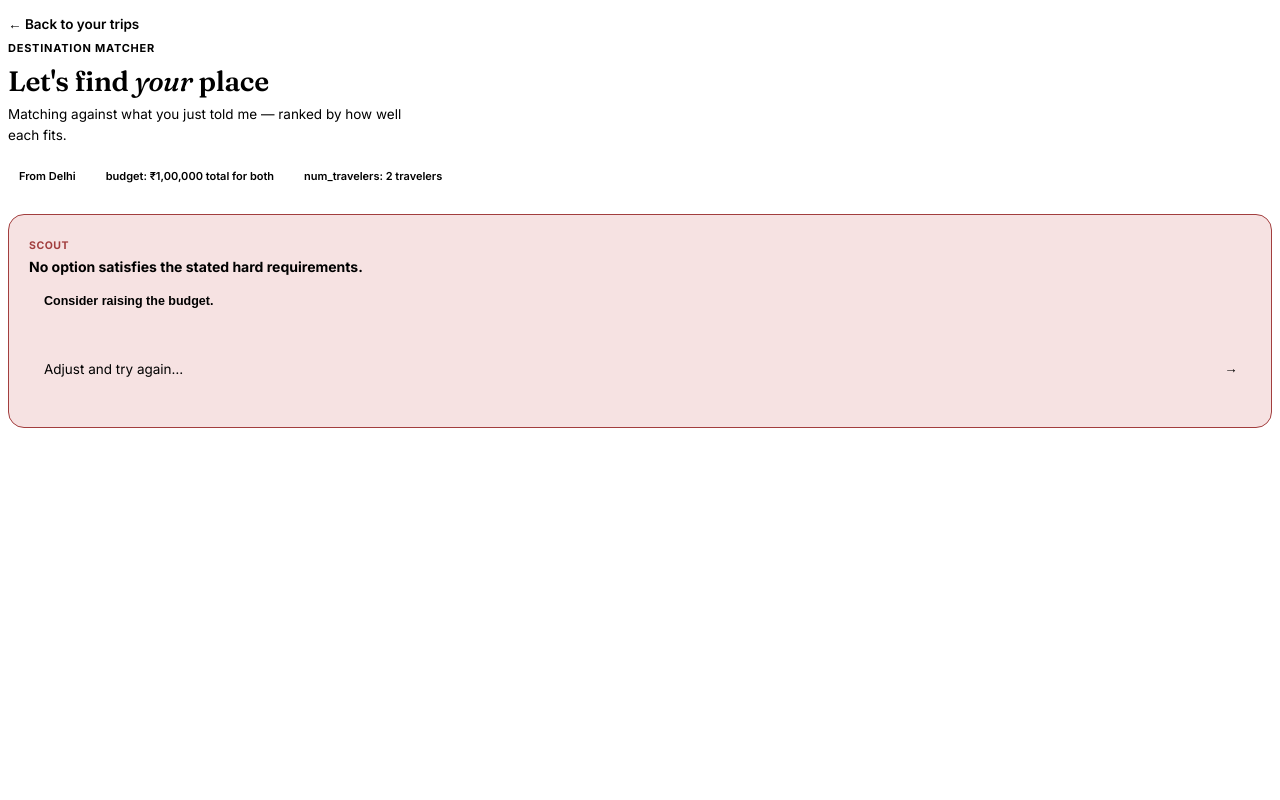
Destinations (real Meridian integration) › renders a terminal failure and lets the traveler retry with an adjustment
expect the text "No option satisfies the stated hard requirements." is shown: met, box [29, 258, 363, 275]
Type "Raise the budget to 1.2L" into the field with placeholder "Adjust and try again…".
click(616, 369); type("Raise the budget to 1.2L")  # box [29, 349, 1203, 389]
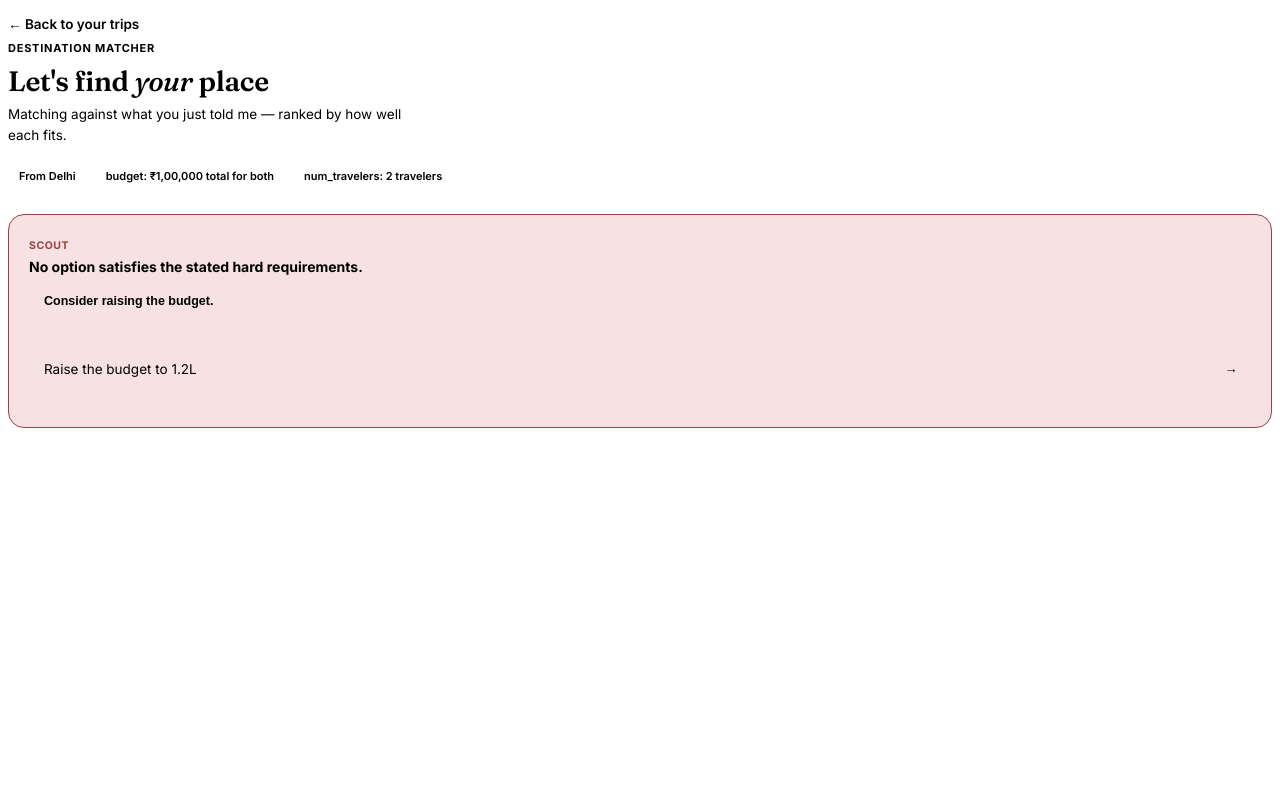
Click the button named "Send".
click(1231, 369)  # box [1211, 349, 1251, 389]
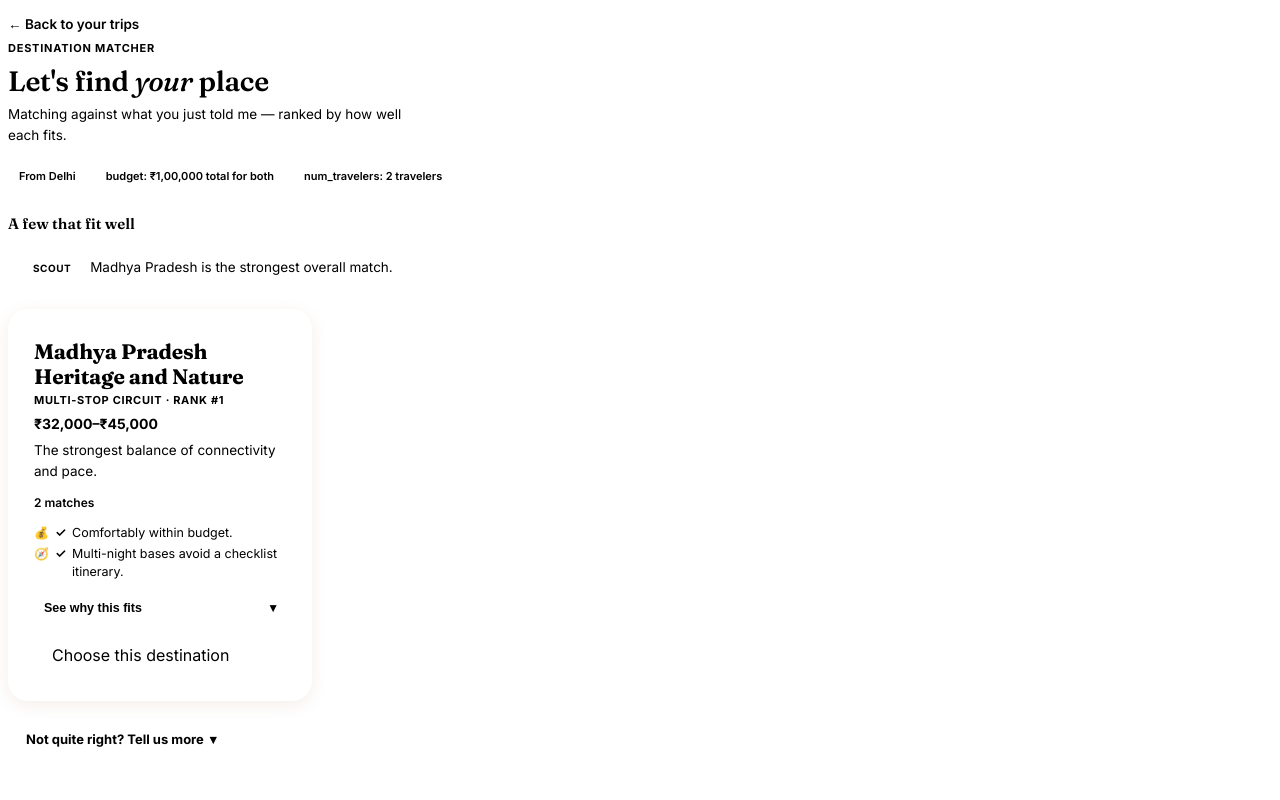
expect the button "Madhya Pradesh Heritage and Nature" is shown: met, box [34, 339, 286, 390]
